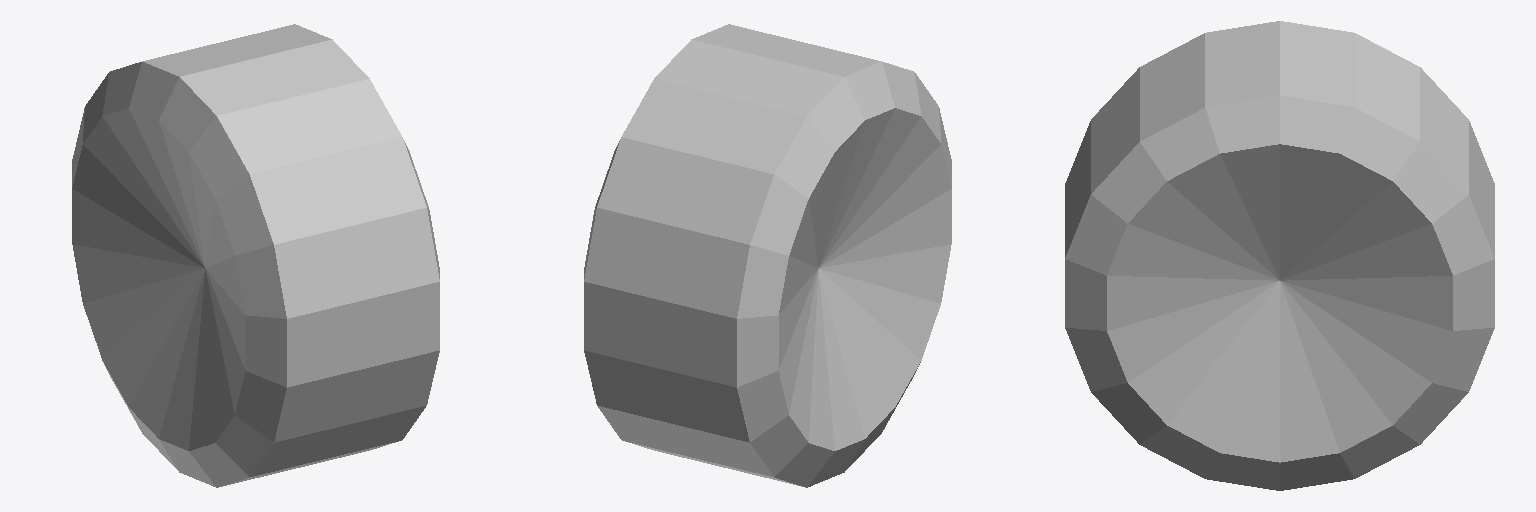
The model's file is morton_wheel.obj.
3 views of the same model, side by side, from view 1: azimuth 30°, elevation 25°; view 2: azimuth 150°, elevation 25°; view 3: azimuth 270°, elevation 25° (orthographic).
Visible parts, largest first — view 1: Mesh_wheel_Cylinder01x; view 2: Mesh_wheel_Cylinder01x; view 3: Mesh_wheel_Cylinder01x.
Boxes of the visible parts, x1,y1,x2,y2 form: Mesh_wheel_Cylinder01x: [72, 24, 439, 487]; Mesh_wheel_Cylinder01x: [584, 24, 951, 487]; Mesh_wheel_Cylinder01x: [1065, 21, 1494, 490].
Size of the model in its own units: 30.68 by 59.69 by 58.78.